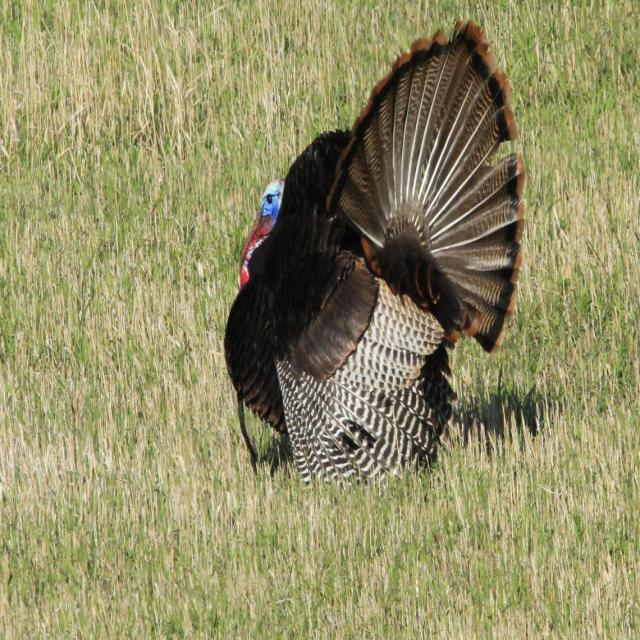Turkey: (222, 13, 539, 493)
